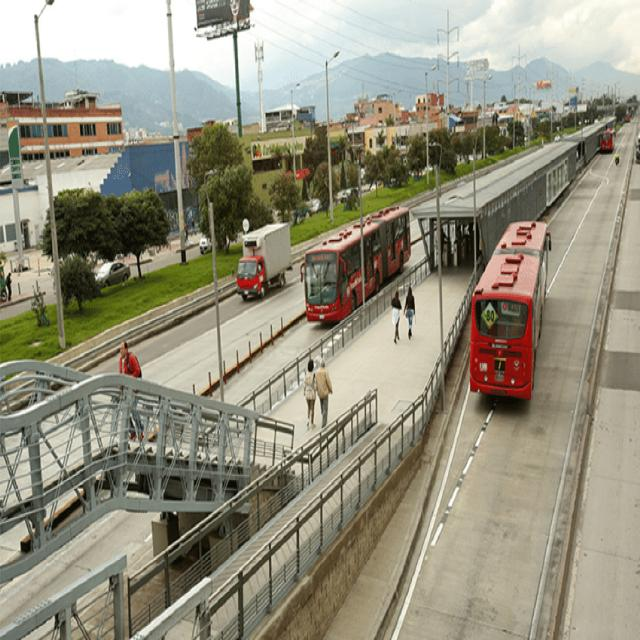BUS: (307, 215, 415, 335), (468, 252, 544, 406)
